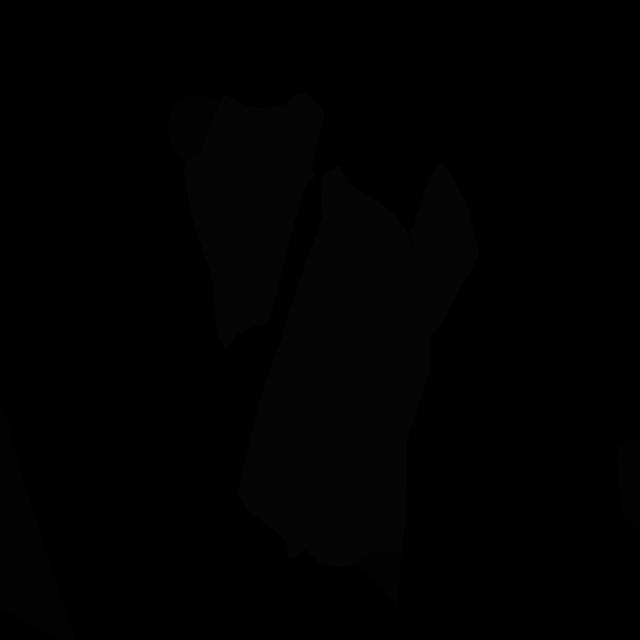cardboard: (0, 400, 76, 640), (168, 95, 218, 162), (356, 551, 401, 610), (617, 436, 640, 529)
soft_plastic: (237, 165, 430, 566), (184, 91, 324, 349), (408, 162, 480, 338)
